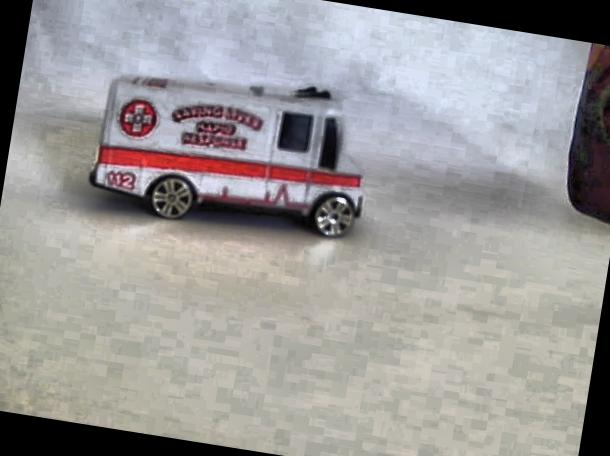ambulance: (83, 52, 379, 248)
